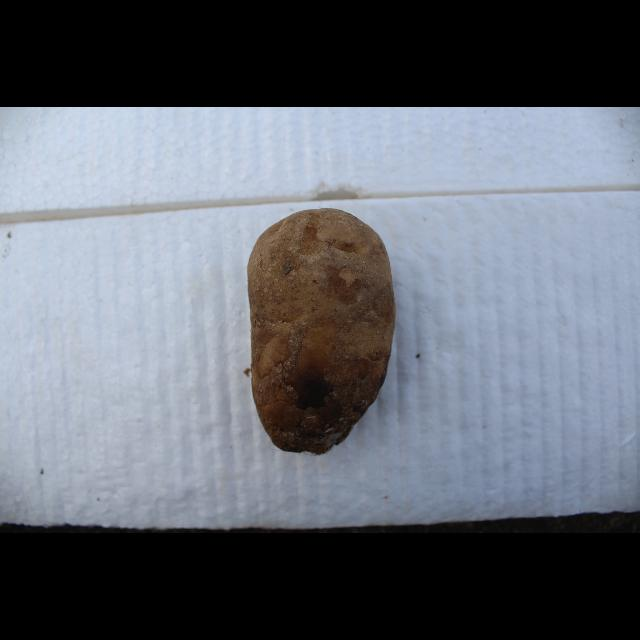Diseased-fungal potato: (237, 205, 399, 460)
